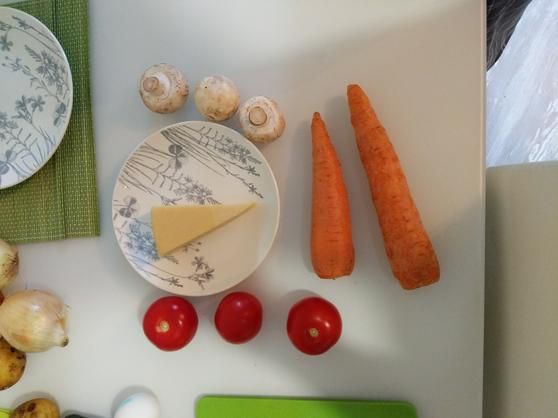carrot: (346, 79, 449, 293), (311, 111, 357, 284)
champignon: (142, 59, 193, 113), (238, 95, 288, 143), (193, 72, 238, 125)
cheese: (149, 200, 257, 258)
egg: (107, 390, 161, 418)
onion: (3, 288, 74, 351)
tomato: (286, 294, 342, 356), (138, 298, 196, 352), (214, 291, 264, 344)
